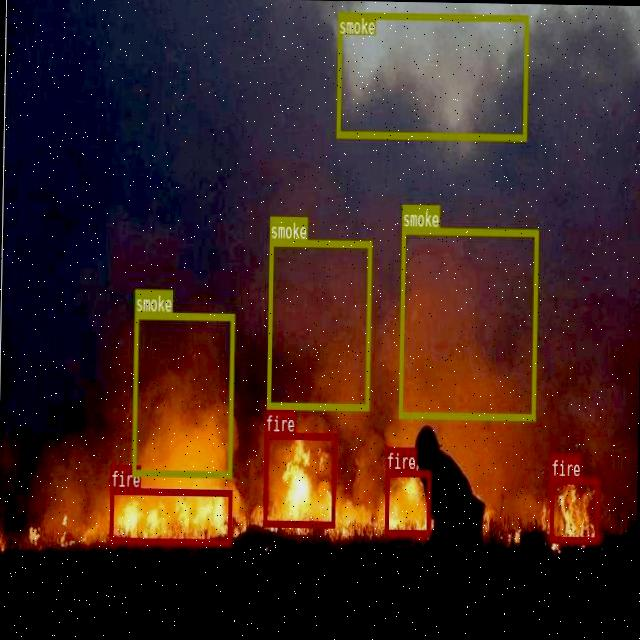fire: (108, 486, 230, 544), (262, 432, 336, 526), (548, 476, 598, 542), (384, 469, 430, 535)
smoke: (398, 226, 538, 419), (336, 11, 528, 140), (266, 238, 371, 410), (131, 310, 233, 476)
